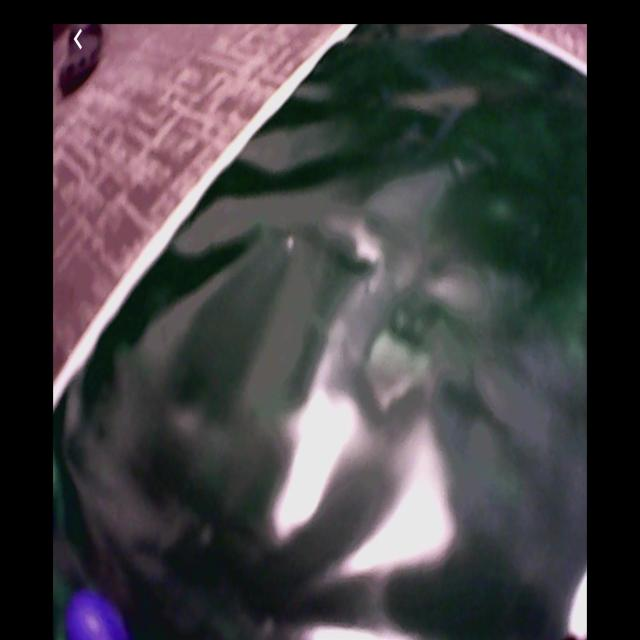ball: (64, 587, 124, 640)
